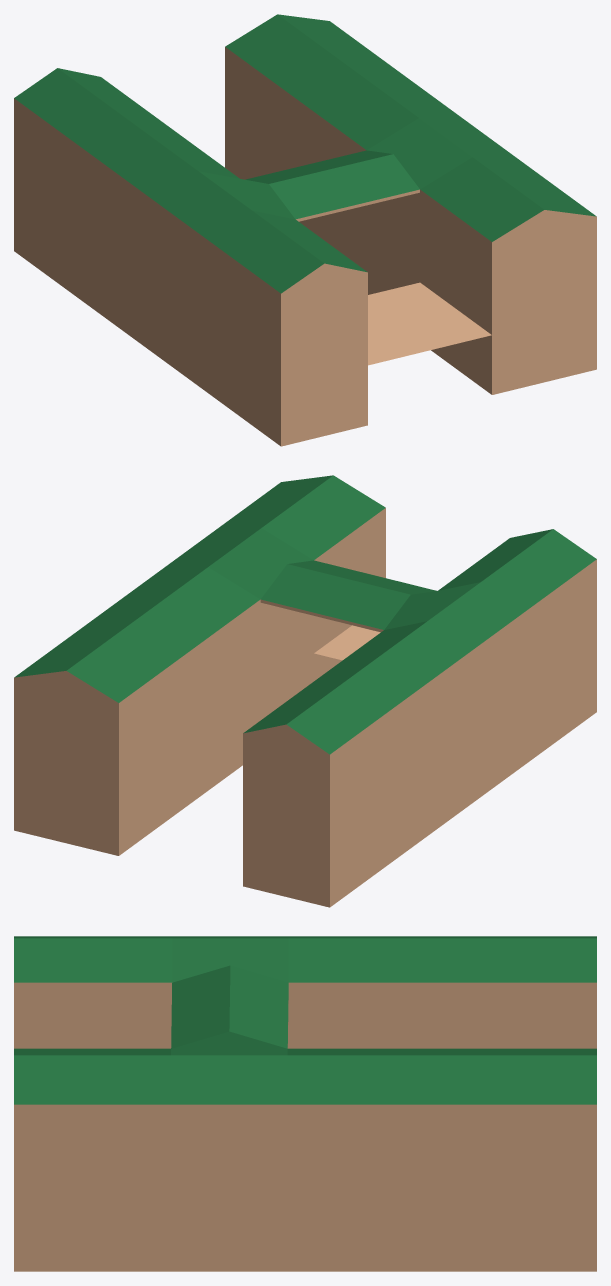
The model's file is sac.fbx.
3 views of the same model, one above another, from view 1: azimuth 30°, elevation 25°; view 2: azimuth 150°, elevation 25°; view 3: azimuth 270°, elevation 25° (orthographic). The views are drawn at different scales.
Parts seen in each view (by area): view 1: Cube.003; view 2: Cube.003; view 3: Cube.003.
Part boxes in pixels (x1,y1,x2,y2): Cube.003: (14, 14, 596, 446); Cube.003: (14, 475, 596, 907); Cube.003: (14, 936, 596, 1271).
Size of the model in its own units: 1032 by 539 by 1512.
